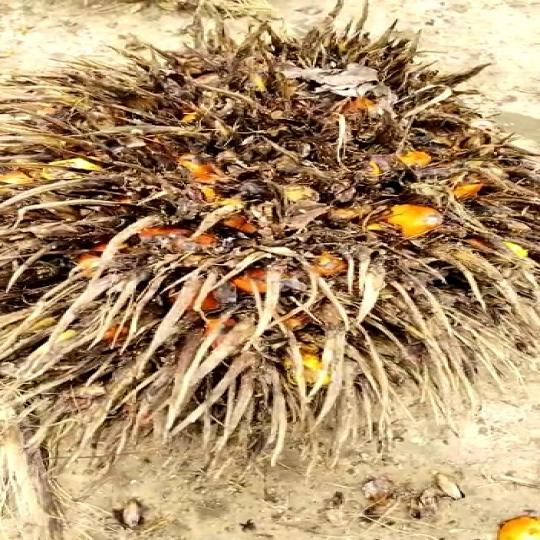terlalu masak: (0, 22, 540, 455)
